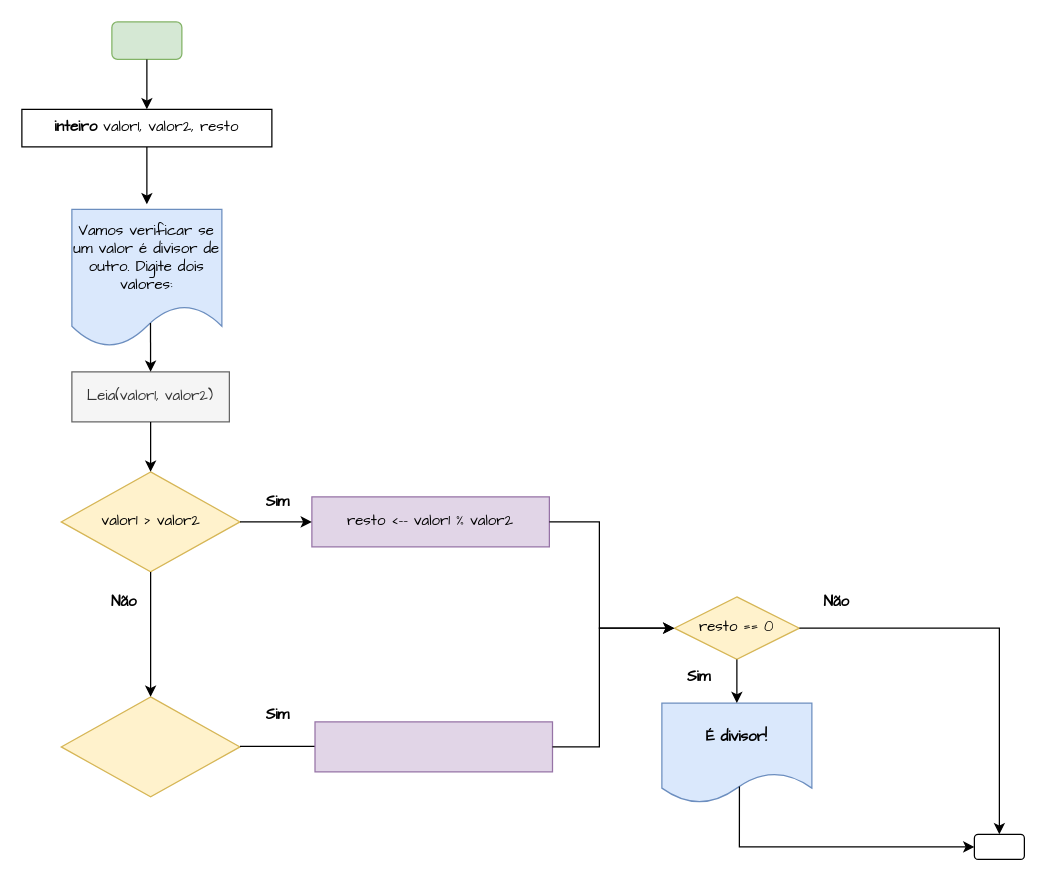
Image size: 1046x881. Some labels were removed from this diagram. Each missing label, with the centre of its shape:
"FIM" belongs at point (998, 846).
"INÍCIO" belongs at point (146, 40).
"resto <-- valor2 % valor1" belongs at point (433, 746).
"valor2 > valor1" belongs at point (150, 746).
